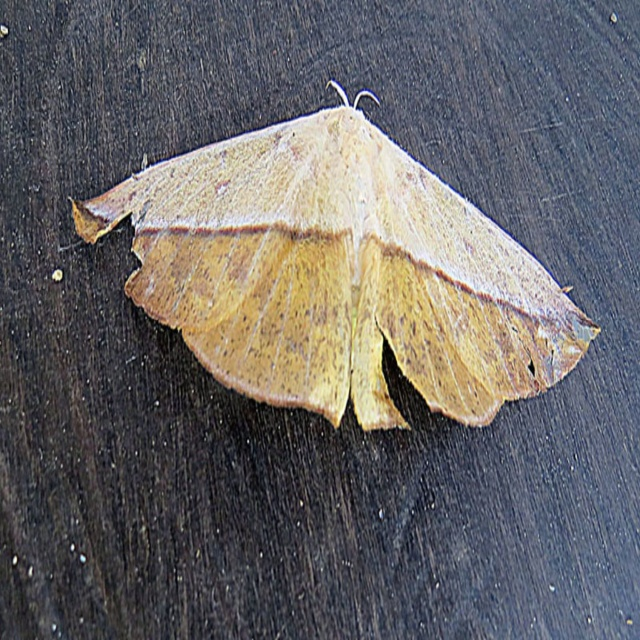Moths and butterflies: (66, 78, 605, 435)
